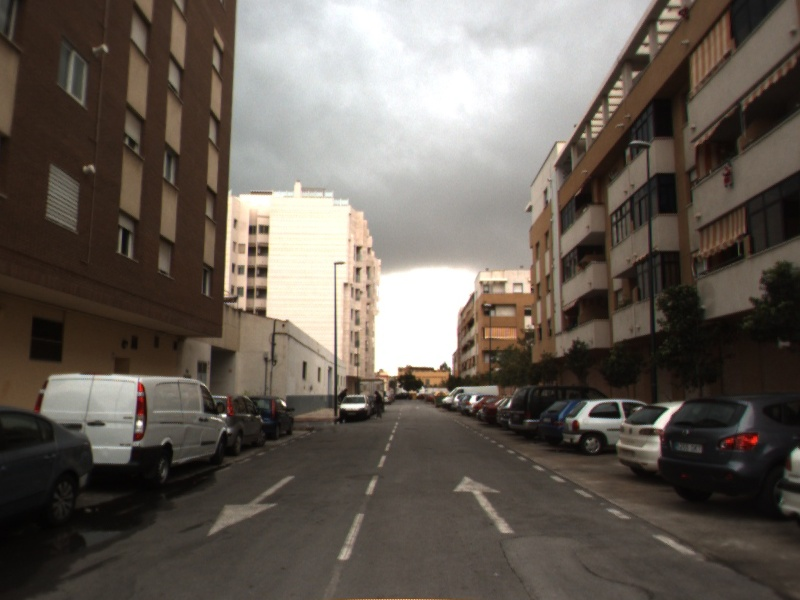STRAIGHT: (451, 474, 517, 535)
